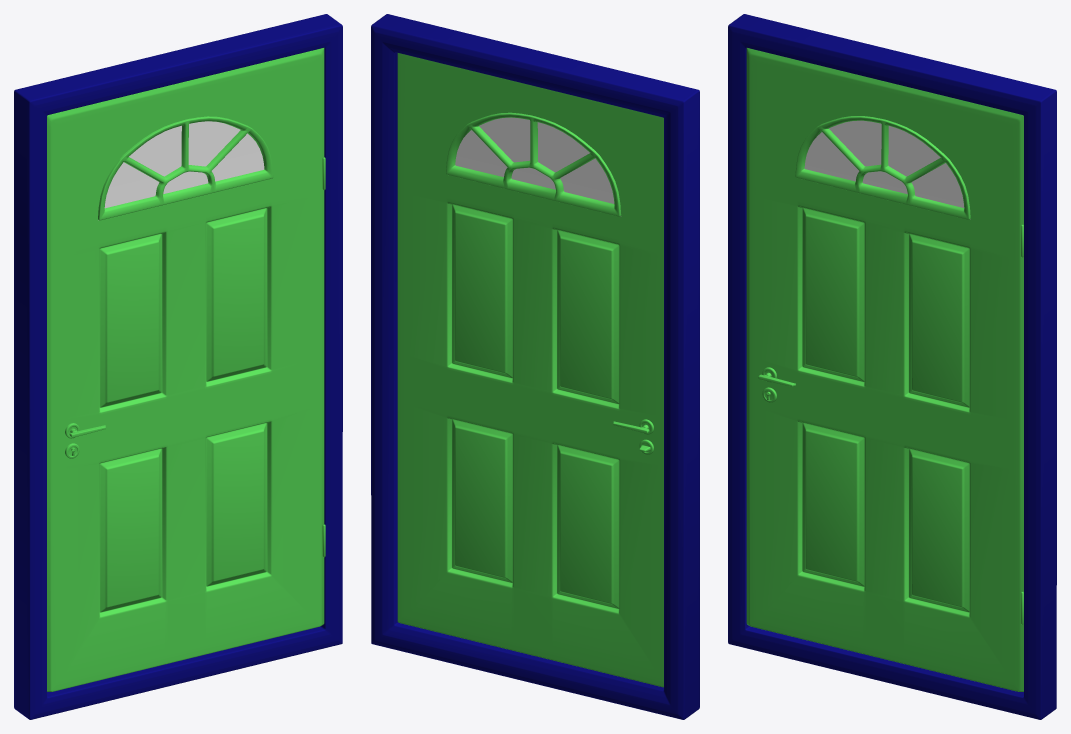
The model's file is hinged_door3.fbx.
3 renders of one model, left to right at view 1: azimuth 30°, elevation 25°; view 2: azimuth 150°, elevation 25°; view 3: azimuth 330°, elevation 25°, orthographic.
Parts seen in each view (by area): view 1: hinged_door3_LOD0, hinged_door_doorway_LOD0; view 2: hinged_door3_LOD0, hinged_door_doorway_LOD0; view 3: hinged_door3_LOD0, hinged_door_doorway_LOD0.
Part boxes in pixels (box(x1,y1,x2,y2)): hinged_door3_LOD0: box(47, 48, 325, 691); hinged_door_doorway_LOD0: box(14, 14, 342, 719); hinged_door3_LOD0: box(397, 53, 663, 687); hinged_door_doorway_LOD0: box(371, 14, 699, 719); hinged_door3_LOD0: box(746, 48, 1023, 691); hinged_door_doorway_LOD0: box(728, 14, 1056, 719).
Bounding box in the file's own units: 357 × 675 × 45.52.
